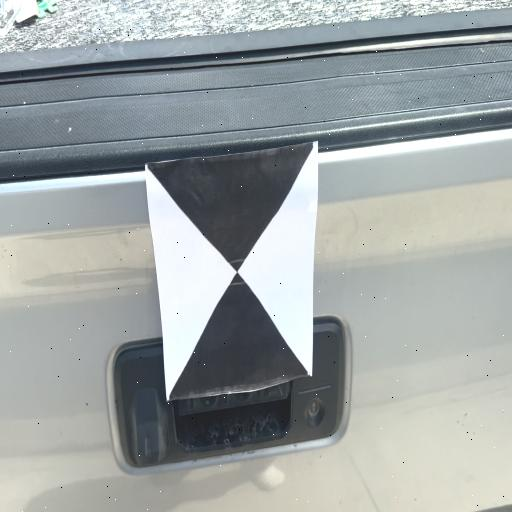target: (146, 140, 318, 402)
